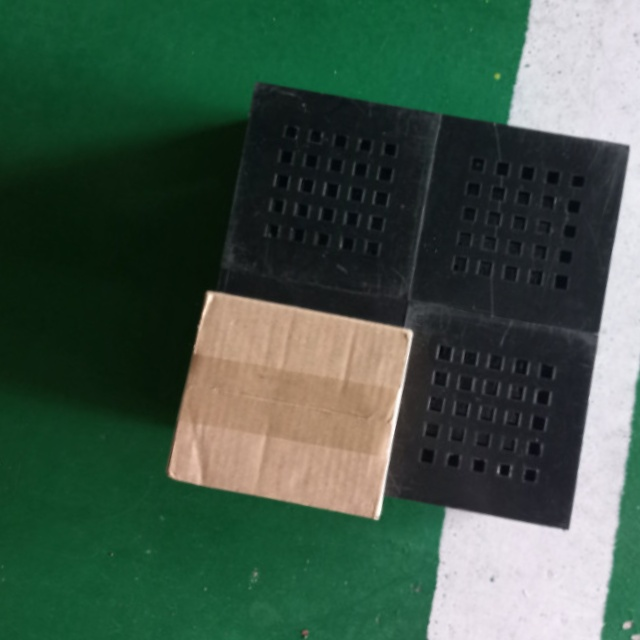box: (163, 285, 417, 528)
pallet: (173, 68, 635, 533)
